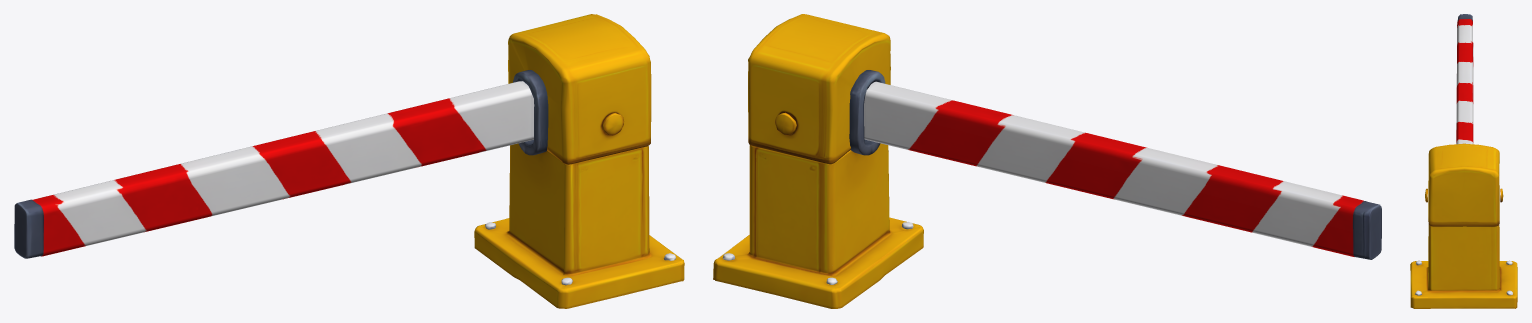
File: barrier-arm.glb
3 renders of one model, left to right at view 1: azimuth 30°, elevation 25°; view 2: azimuth 150°, elevation 25°; view 3: azimuth 270°, elevation 25°, orthographic. The views are drawn at different scales.
Visible parts, largest first — view 1: geometry_0; view 2: geometry_0; view 3: geometry_0.
Part boxes in pixels (box(x1,y1,x2,y2)): geometry_0: box(14, 14, 684, 308); geometry_0: box(713, 14, 1381, 308); geometry_0: box(1410, 14, 1517, 308).
Size of the model in its own units: 1 by 0.3505 by 0.252.
Materials: 1 (1 with a texture image).
